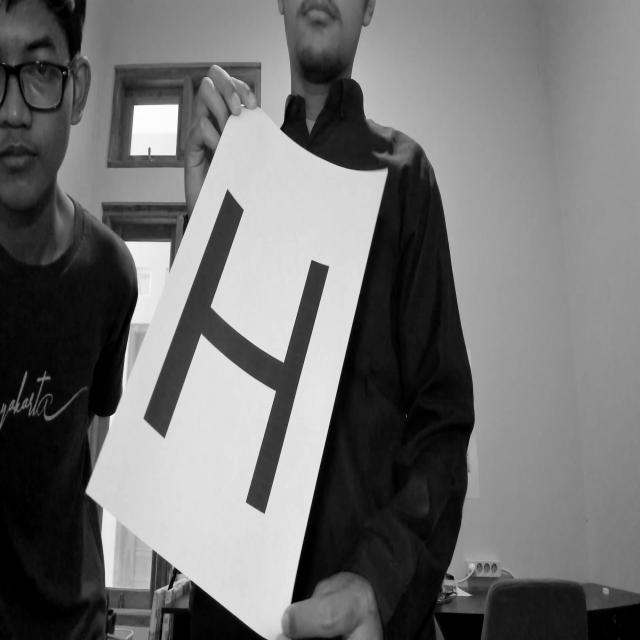h: (139, 184, 329, 523)
